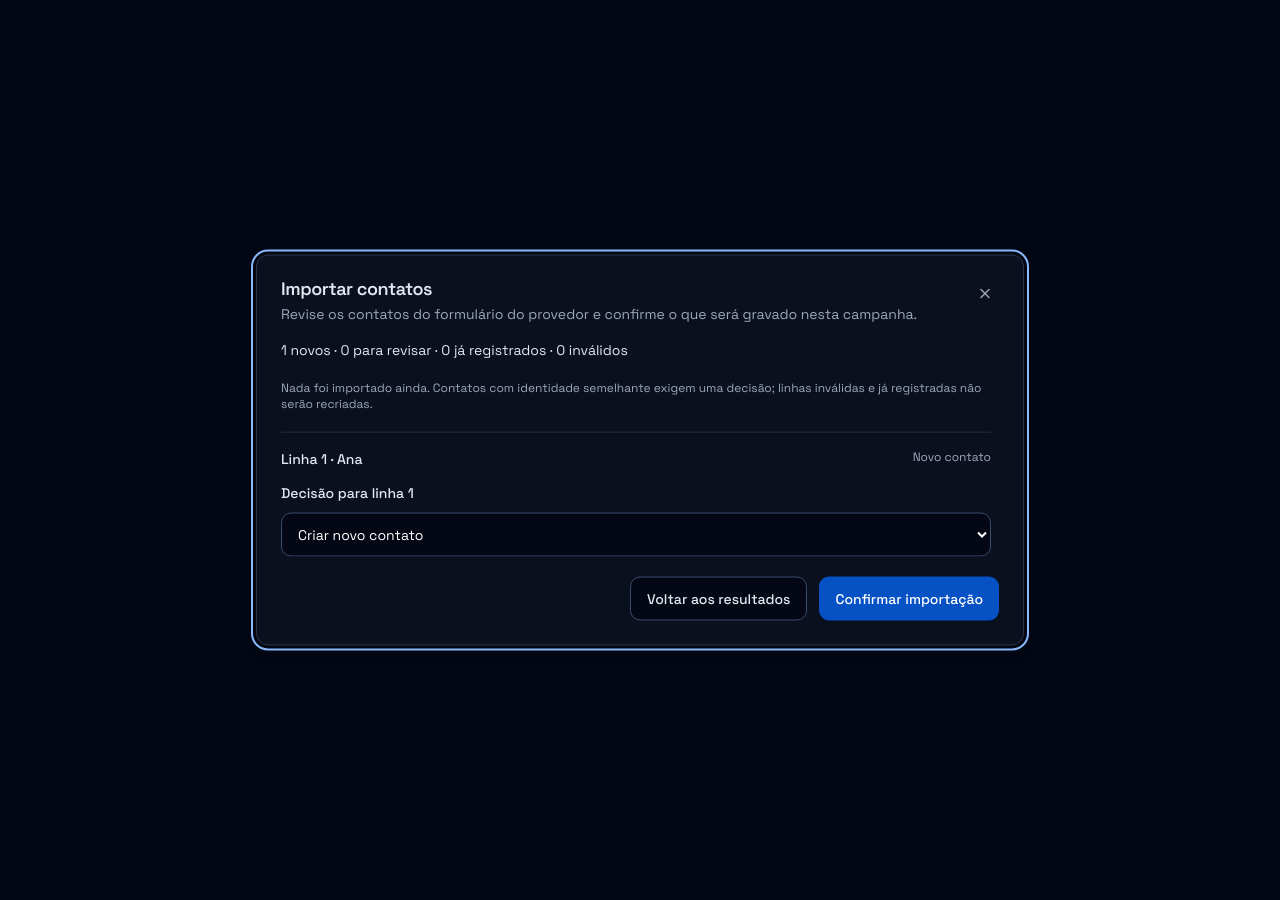
it: Advertising integrations › clears a native preview when the source revision returns version_conflict and requires fresh synchronization
The image size is (1280, 900).
Click the button "Confirmar importação" at (909, 598), box [819,576,999,620]
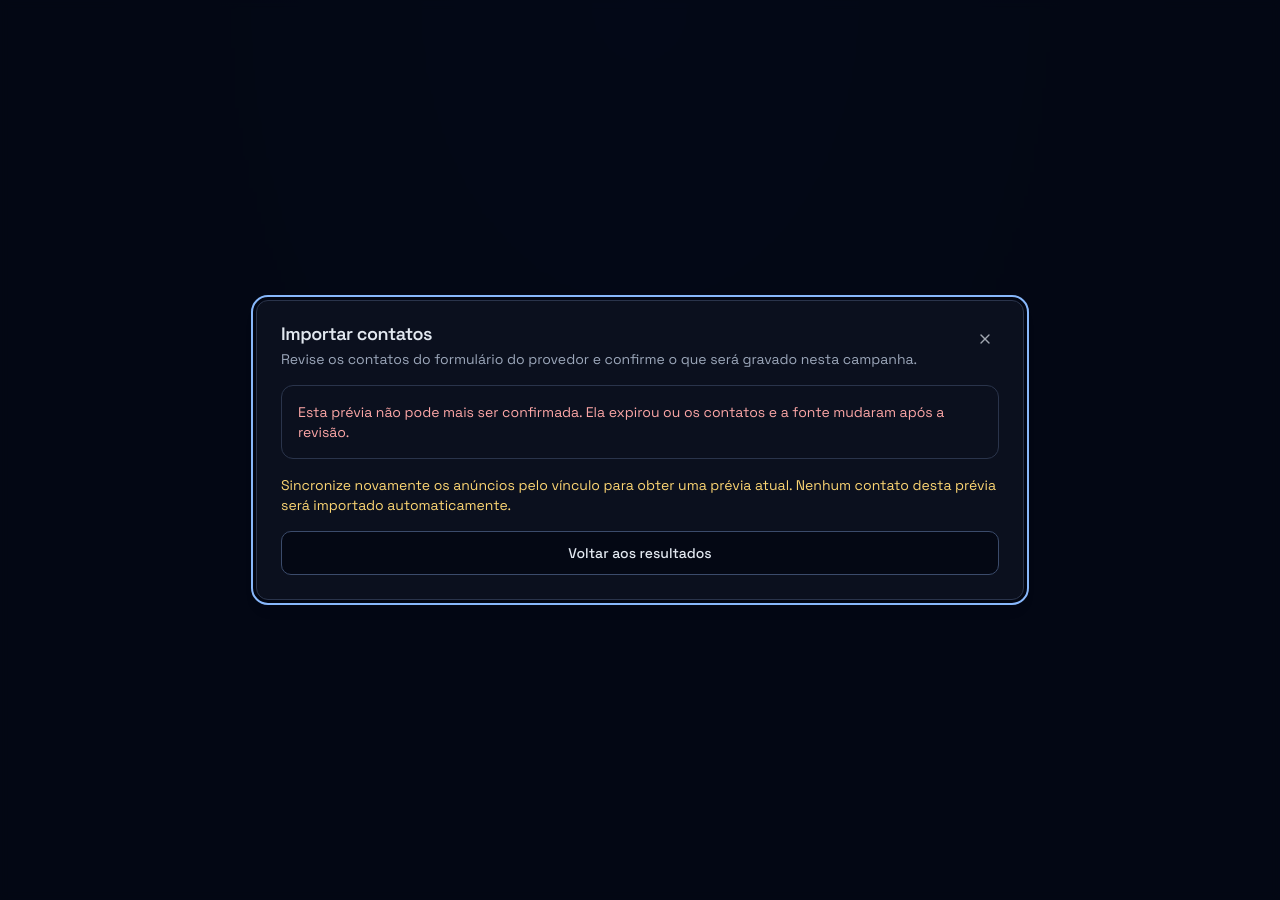
Expected: the text "Sincronize novamente" is shown, [281,476,996,514]
Expected: the button "Confirmar importação" is gone
